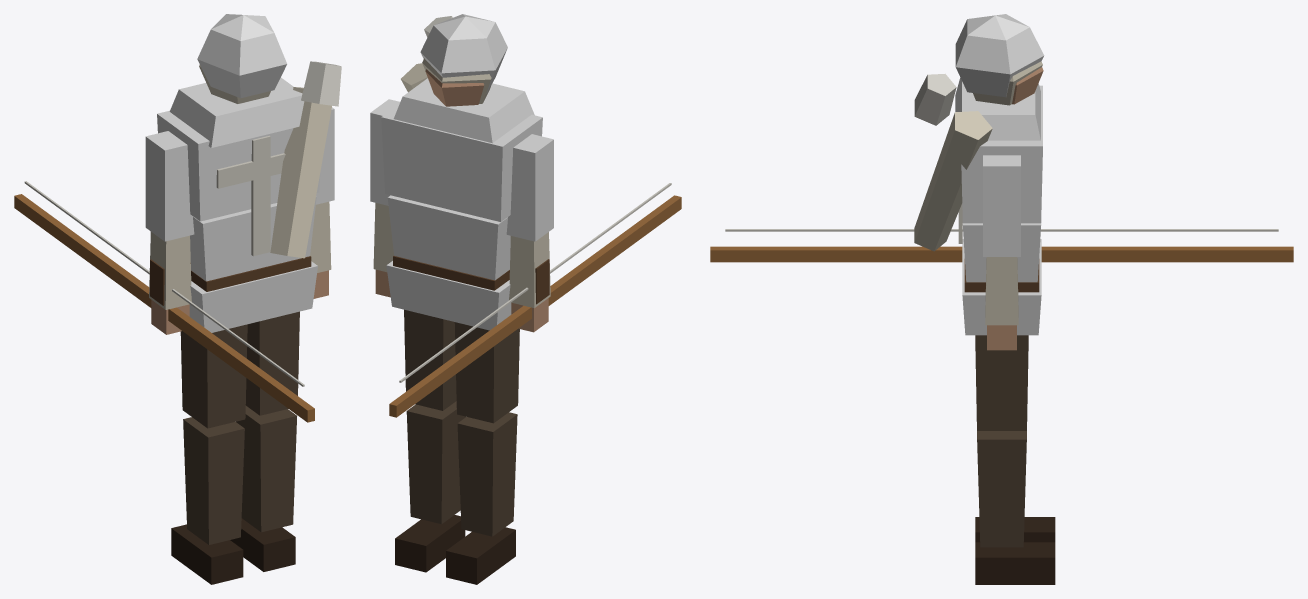
File: soldier_med_archer_lod1.glb
The picture shows the model from 3 angles, left to right: view 1: azimuth 30°, elevation 25°; view 2: azimuth 150°, elevation 25°; view 3: azimuth 270°, elevation 25°; orthographic projection. The views are drawn at different scales.
Parts seen in each view (by area): view 1: med_archer_lod1_static; view 2: med_archer_lod1_static; view 3: med_archer_lod1_static.
Boxes of the visible parts, x1,y1,x2,y2 form: med_archer_lod1_static: (14,14,341,584); med_archer_lod1_static: (370,14,681,584); med_archer_lod1_static: (710,14,1293,584).
Size of the model in its own units: 0.585 by 1.82 by 1.75.
